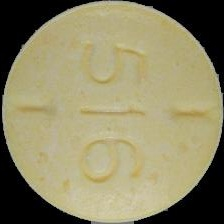50436-3953: (0, 0, 224, 224)
